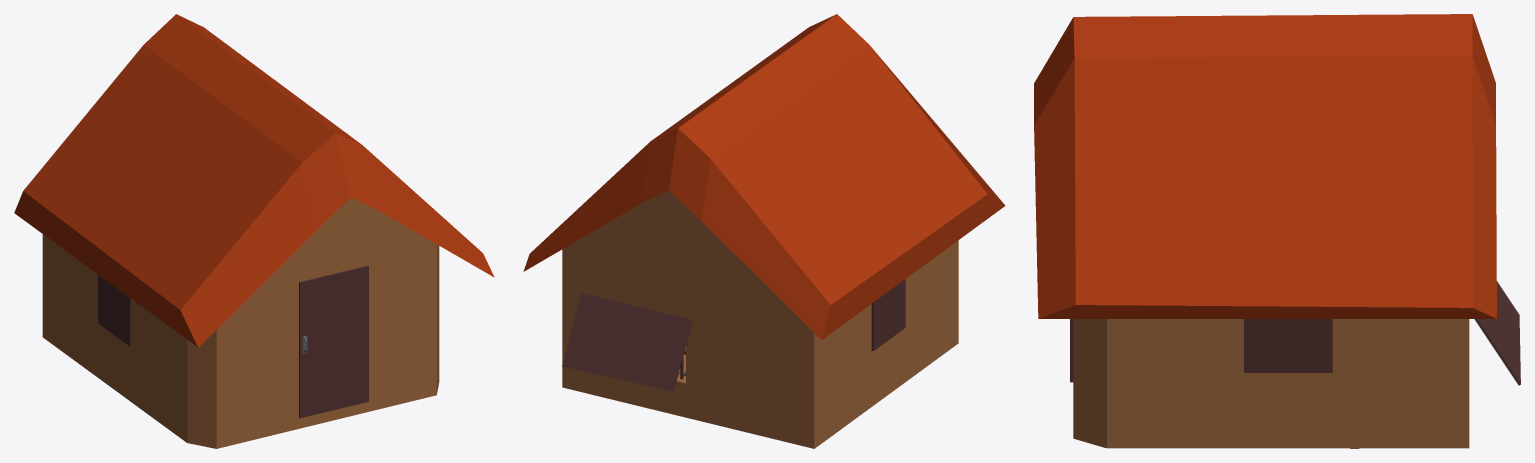
Rendered from House01.dae.
3 views of the same model, side by side, from view 1: azimuth 30°, elevation 25°; view 2: azimuth 150°, elevation 25°; view 3: azimuth 270°, elevation 25° (orthographic). The views are drawn at different scales.
Parts seen in each view (by area): view 1: pCube154, polySurface78, polySurface82, polySurface64; view 2: pCube154, polySurface78, polySurface79, polySurface64; view 3: pCube154, polySurface78, polySurface63, polySurface79.
Part boxes in pixels (bbox=[...]): pCube154: bbox=[14, 14, 494, 347]; polySurface78: bbox=[42, 197, 439, 448]; polySurface82: bbox=[299, 265, 368, 418]; polySurface64: bbox=[98, 274, 132, 346]; pCube154: bbox=[523, 14, 1005, 340]; polySurface78: bbox=[562, 190, 958, 448]; polySurface79: bbox=[562, 293, 692, 391]; polySurface64: bbox=[871, 279, 905, 351]; pCube154: bbox=[1034, 14, 1496, 318]; polySurface78: bbox=[1073, 319, 1469, 448]; polySurface63: bbox=[1244, 319, 1332, 372]; polySurface79: bbox=[1474, 281, 1520, 385].
Size of the model in its own units: 39.2 by 36.21 by 43.74.
